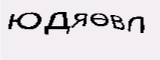Г: (27, 12, 54, 50), (96, 23, 115, 47)
Л: (115, 22, 136, 45)
П: (74, 22, 92, 47)
Ю: (57, 19, 75, 43)
